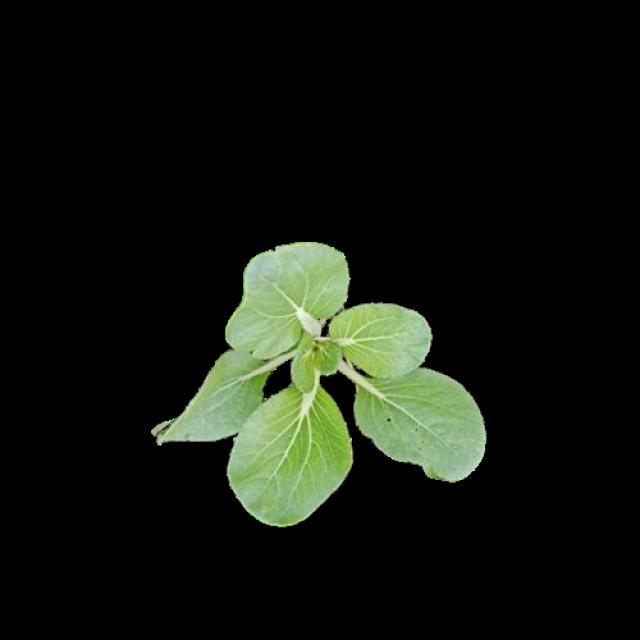not-mature: (162, 241, 484, 522)
unhealthy: (356, 375, 482, 477)
